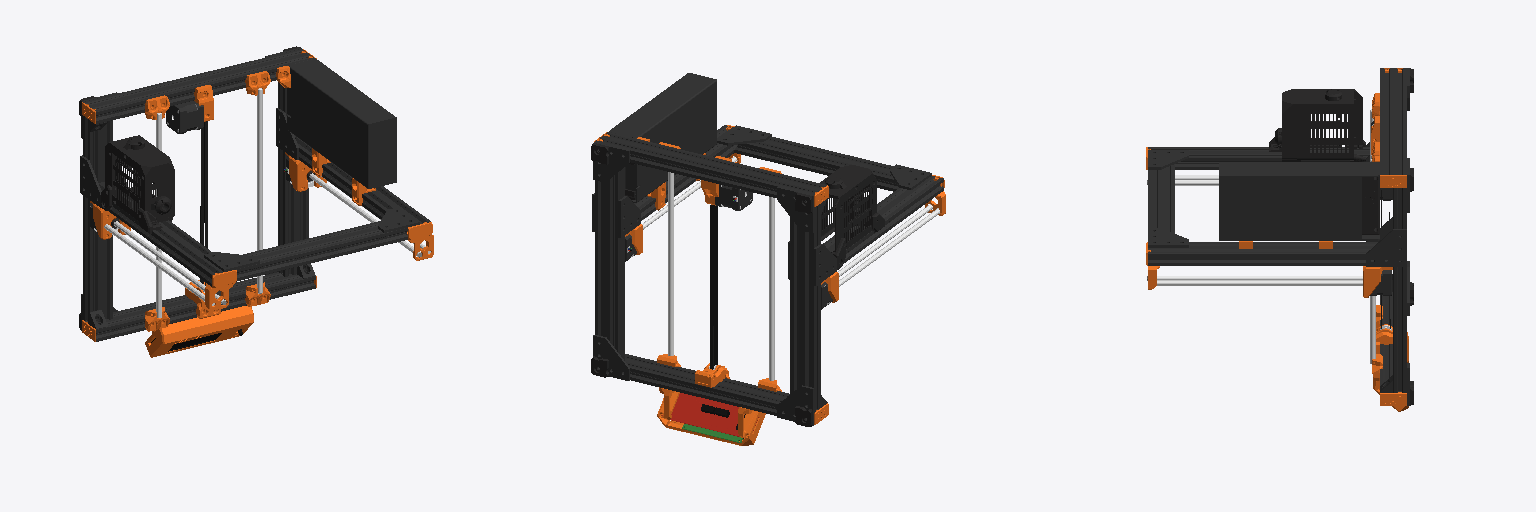
Rendered from bear21_mk3s_simulator_frame.obj.
The picture shows the model from 3 angles: view 1: azimuth 30°, elevation 25°; view 2: azimuth 150°, elevation 25°; view 3: azimuth 270°, elevation 25°; orthographic projection.
Visible parts, largest first — view 1: psu_mk3s_delta v1:1, vslot_front_rear v2:2, vslot_y v2:2, vslot_z_top v2:1, einsy-base v7:1, vslot_front_rear v2:1, lcd_cover_text v1:1, vslot_z v2:2, vslot_y v2:1, vslot_z v2:1, y_rod_holder:1, y_rod v1:2 (+14 smaller); view 2: psu_mk3s_delta v1:1, vslot_y v2:2, vslot_y v2:1, vslot_front_rear v2:2, vslot_front_rear v2:1, vslot_z_top v2:1, einsy-base v7:1, lcd v2:1, vslot_z v2:2, y_belt:1, y_rod v1:2, y_rod v1:1 (+16 smaller); view 3: psu_mk3s_delta v1:1, vslot_z v2:1, rambo_door_mk3 v1:1, vslot_front_rear v2:2, vslot_y v2:1, vslot_z v2:2, vslot_z_top v2:1, einsy-base v7:1, z_rod v1:1, Joining Plate 90 Degree v2:5, nema17_ldo_z v1:1, psu-cover-DELTA v1:1 (+4 smaller).
Boxes of the visible parts, box(x1,y1,x2,y2) form: psu_mk3s_delta v1:1: box(287, 59, 396, 188); vslot_front_rear v2:2: box(83, 49, 315, 123); vslot_y v2:2: box(83, 116, 112, 324); vslot_z_top v2:1: box(236, 221, 407, 281); einsy-base v7:1: box(105, 137, 165, 222); vslot_front_rear v2:1: box(85, 272, 315, 341); lcd_cover_text v1:1: box(145, 306, 253, 357); vslot_z v2:2: box(99, 181, 222, 286); vslot_y v2:1: box(278, 82, 308, 276); vslot_z v2:1: box(294, 135, 430, 234); y_rod_holder:1: box(145, 71, 270, 331); y_rod v1:2: box(257, 88, 262, 293); psu_mk3s_delta v1:1: box(609, 73, 716, 202); vslot_y v2:2: box(790, 204, 820, 412); vslot_y v2:1: box(595, 167, 624, 360); vslot_front_rear v2:2: box(595, 132, 826, 197); vslot_front_rear v2:1: box(611, 354, 821, 415); vslot_z_top v2:1: box(734, 137, 898, 191); einsy-base v7:1: box(829, 166, 876, 254); lcd v2:1: box(662, 393, 758, 442); vslot_z v2:2: box(823, 176, 943, 263); y_belt:1: box(710, 205, 717, 369); y_rod v1:2: box(668, 172, 673, 355); y_rod v1:1: box(769, 197, 774, 380); psu_mk3s_delta v1:1: box(1219, 162, 1379, 240); vslot_z v2:1: box(1148, 242, 1387, 265); rambo_door_mk3 v1:1: box(1282, 100, 1353, 159); vslot_front_rear v2:2: box(1380, 68, 1406, 174); vslot_y v2:1: box(1393, 188, 1406, 392); vslot_z v2:2: box(1148, 147, 1369, 169); vslot_z_top v2:1: box(1148, 164, 1174, 232); einsy-base v7:1: box(1275, 89, 1362, 148); z_rod v1:1: box(1157, 280, 1362, 285); Joining Plate 90 Degree v2:5: box(1366, 229, 1406, 266); nema17_ldo_z v1:1: box(1147, 270, 1391, 295); psu-cover-DELTA v1:1: box(1362, 176, 1379, 234).
Size of the model in its own units: 38.1 by 43.25 by 39.24.